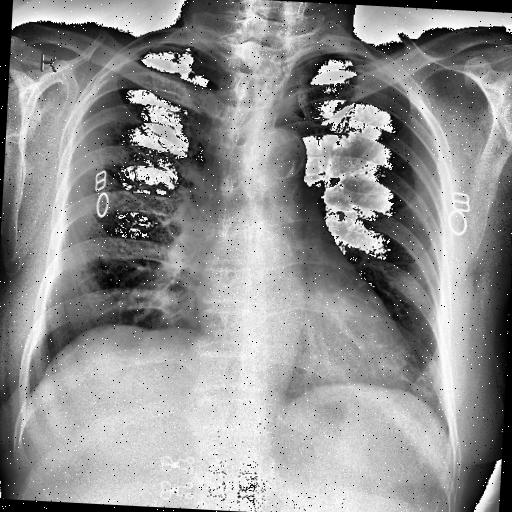0- Aortic enlargement: (238, 122, 310, 192), (250, 128, 308, 194), (240, 127, 307, 181)
2- Calcification: (282, 133, 308, 179)
3- Cardiomegaly: (190, 274, 424, 416), (188, 274, 426, 404), (192, 272, 420, 391)
